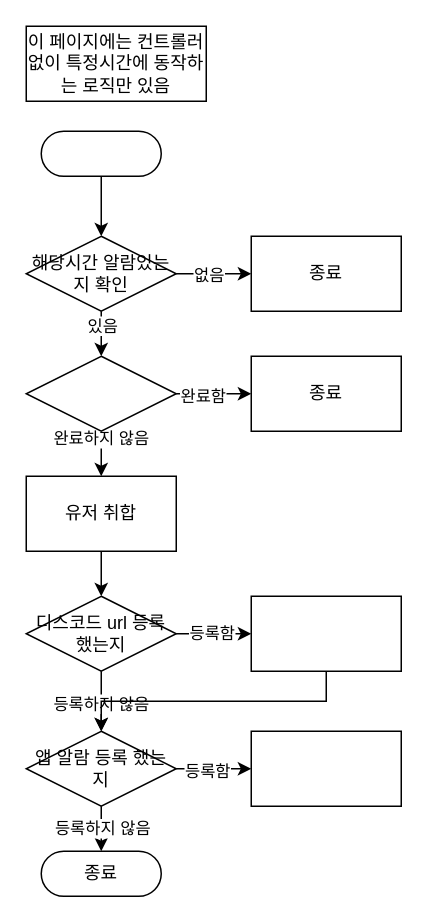
Image size: 428x923. Some labels were removed from this diagram. Here are the shapes that lost their labels. From the top down, the centre of each, then its label:
At [100,153]: "매 시간마다".
At [100,393]: "이미 완료한 작업인지 확인".
At [325,633]: "디스코드로 알람".
At [325,768]: "앱으로 알람".
